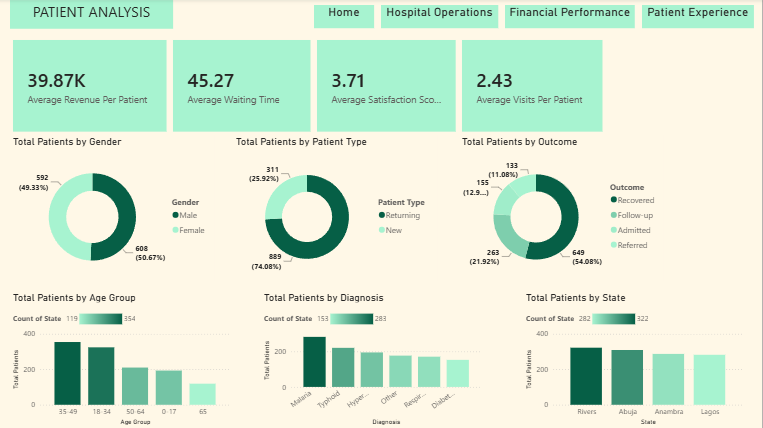

The dashboard page shown, as its layout file describes it:
{"tool":"powerbi","page":{"name":"Patient Analysis","canvas":[1280,720],"ordinal":1},"visuals":[{"type":"cardVisual","fields":{"Data":["Date_Table.Average Revenue Per Patient"]},"box":[16.8,63.8,268.8,164.6],"z":0},{"type":"textbox","box":[16.8,0,273.8,50.4],"z":1000},{"type":"cardVisual","fields":{"Data":["Date_Table.Average Waiting Time"]},"box":[285.6,63.8,241.9,164.6],"z":2000},{"type":"cardVisual","fields":{"Data":["Date_Table.Average Satisfaction"]},"box":[527.5,63.8,243.6,164.6],"z":3000},{"type":"cardVisual","fields":{"Data":["Date_Table.Average Visits Per Patient"]},"box":[771,63.8,246.9,164.6],"z":4000},{"type":"donutChart","fields":{"Y":["Date_Table.Total Patients"],"Category":["Patient_Visits.Gender"]},"box":[16.8,228.5,342.7,245.2],"z":5000},{"type":"clusteredColumnChart","fields":{"Y":["Date_Table.Total Patients"],"Category":["Patient_Visits.Age Group"]},"box":[16.8,490.5,374.6,230.1],"z":6000},{"type":"clusteredColumnChart","fields":{"Y":["Date_Table.Total Patients"],"Category":["Patient_Visits.Diagnosis"]},"box":[438.4,490.5,374.6,230.1],"z":7000},{"type":"clusteredColumnChart","fields":{"Category":["Patient_Visits.State"],"Y":["Date_Table.Total Patients"]},"box":[878.5,490.5,374.6,230.1],"z":8000},{"type":"donutChart","fields":{"Y":["Date_Table.Total Patients"],"Category":["Patient_Visits.Patient Type"]},"box":[391.4,228.5,342.7,245.2],"z":9000},{"type":"donutChart","fields":{"Y":["Date_Table.Total Patients"],"Category":["Patient_Visits.Outcome"]},"box":[771,228.5,342.7,245.2],"z":10000},{"type":"actionButton","title":"Home","box":[527.5,10.1,100.8,40.3],"z":10001},{"type":"actionButton","title":"Hospital Operations","box":[640,10.1,196.5,40.3],"z":10002},{"type":"actionButton","title":"Financial Performance","box":[848.3,10.1,218.4,40.3],"z":10003},{"type":"actionButton","title":"Patient Experience","box":[1078.4,10.1,188.1,40.3],"z":10004}]}

Visuals, with their boxes in screenshot pixels (x1, y1, x2, y2), scaled from the page's 1280x720 canvas onto the 763x428 screenshot:
cardVisual - Date_Table.Average Revenue Per Patient: 10,38,170,136
textbox: 10,0,173,30
cardVisual - Date_Table.Average Waiting Time: 170,38,314,136
cardVisual - Date_Table.Average Satisfaction: 314,38,460,136
cardVisual - Date_Table.Average Visits Per Patient: 460,38,607,136
donutChart - Date_Table.Total Patients x Patient_Visits.Gender: 10,136,214,282
clusteredColumnChart - Date_Table.Total Patients x Patient_Visits.Age Group: 10,292,233,427
clusteredColumnChart - Date_Table.Total Patients x Patient_Visits.Diagnosis: 261,292,485,427
clusteredColumnChart - Patient_Visits.State x Date_Table.Total Patients: 524,292,747,427
donutChart - Date_Table.Total Patients x Patient_Visits.Patient Type: 233,136,438,282
donutChart - Date_Table.Total Patients x Patient_Visits.Outcome: 460,136,664,282
"Home" actionButton: 314,6,375,30
"Hospital Operations" actionButton: 382,6,499,30
"Financial Performance" actionButton: 506,6,636,30
"Patient Experience" actionButton: 643,6,755,30
